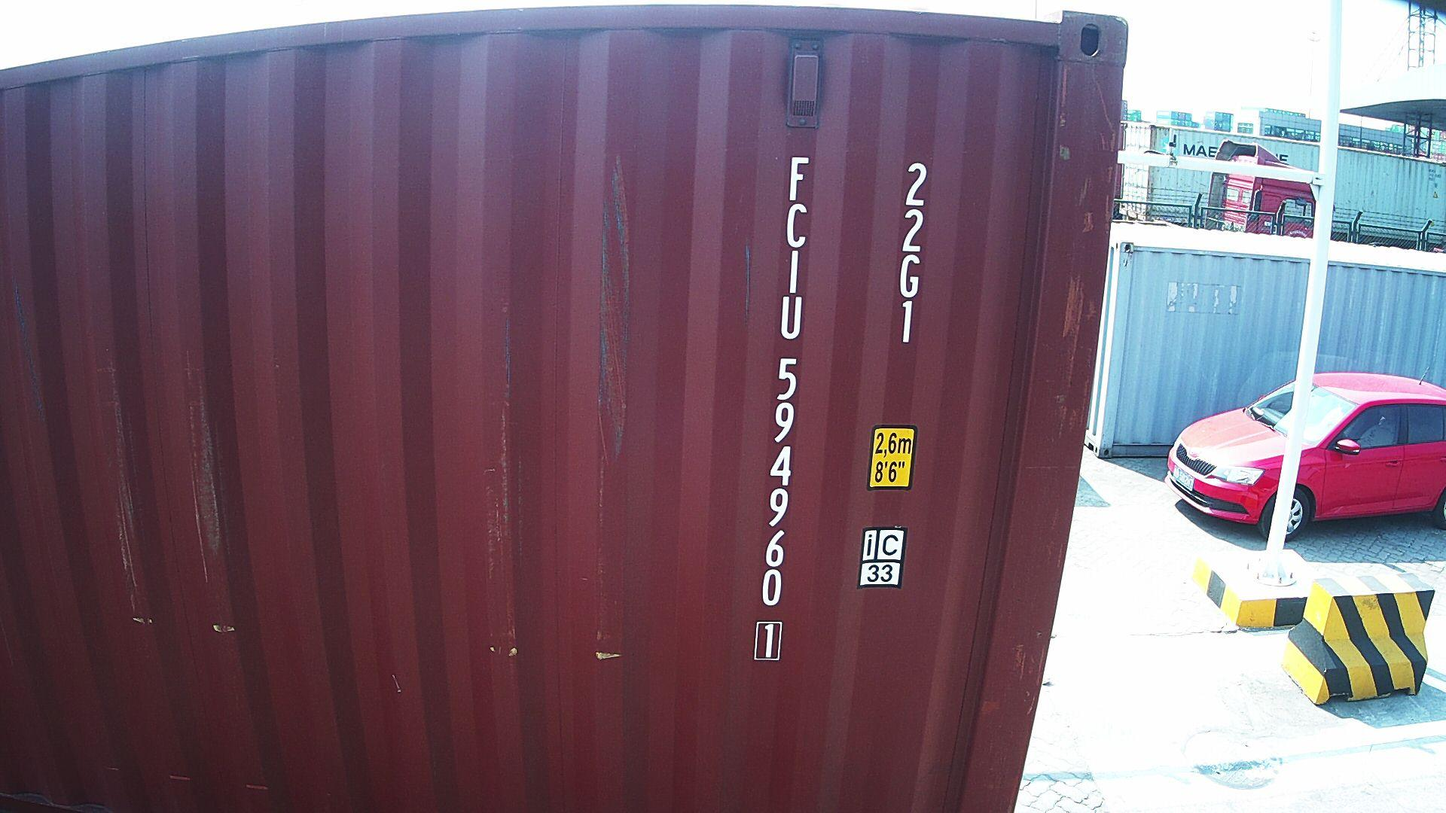container-numbers: (751, 152, 816, 670), (890, 159, 932, 349)
